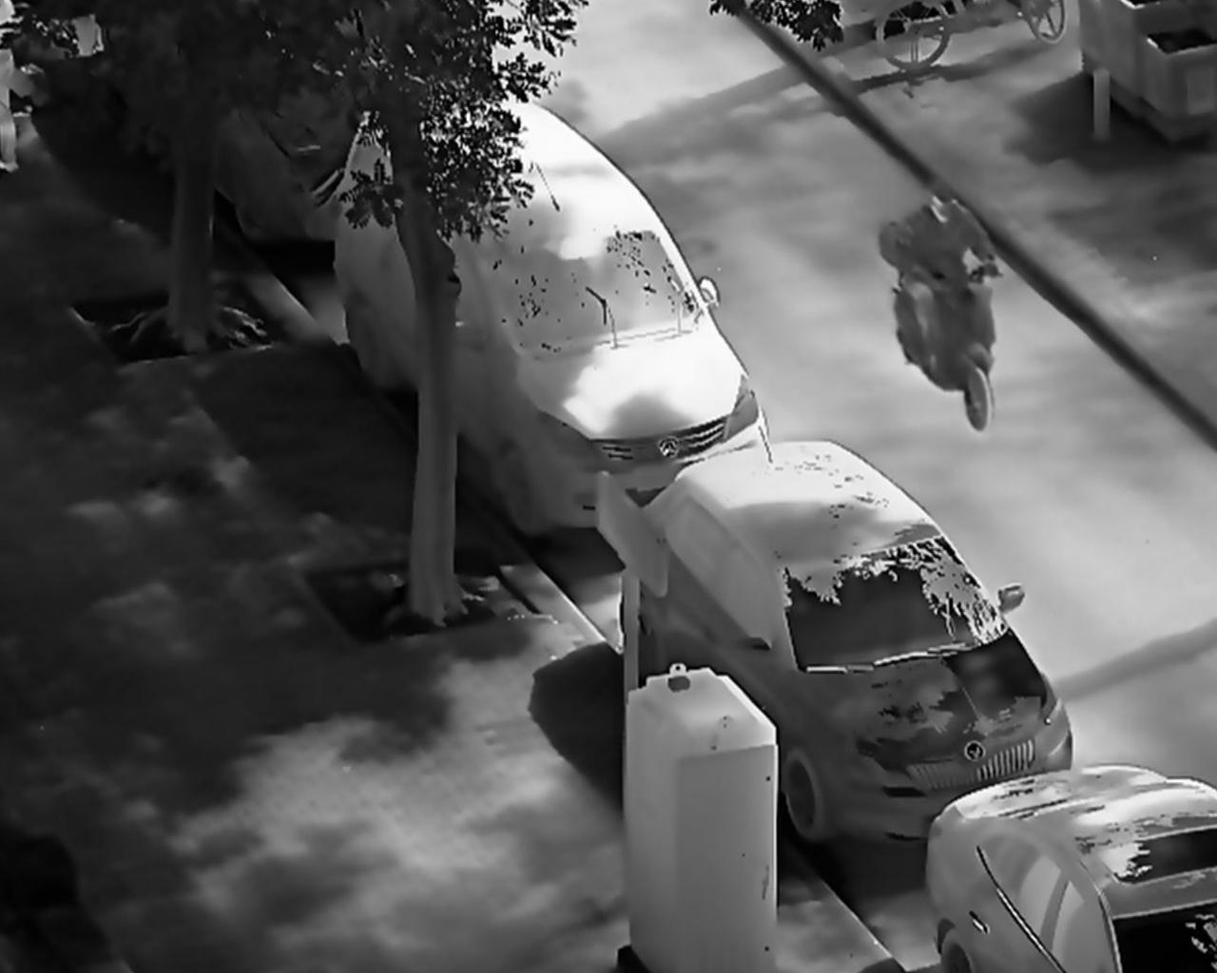person: (899, 175, 1007, 374)
